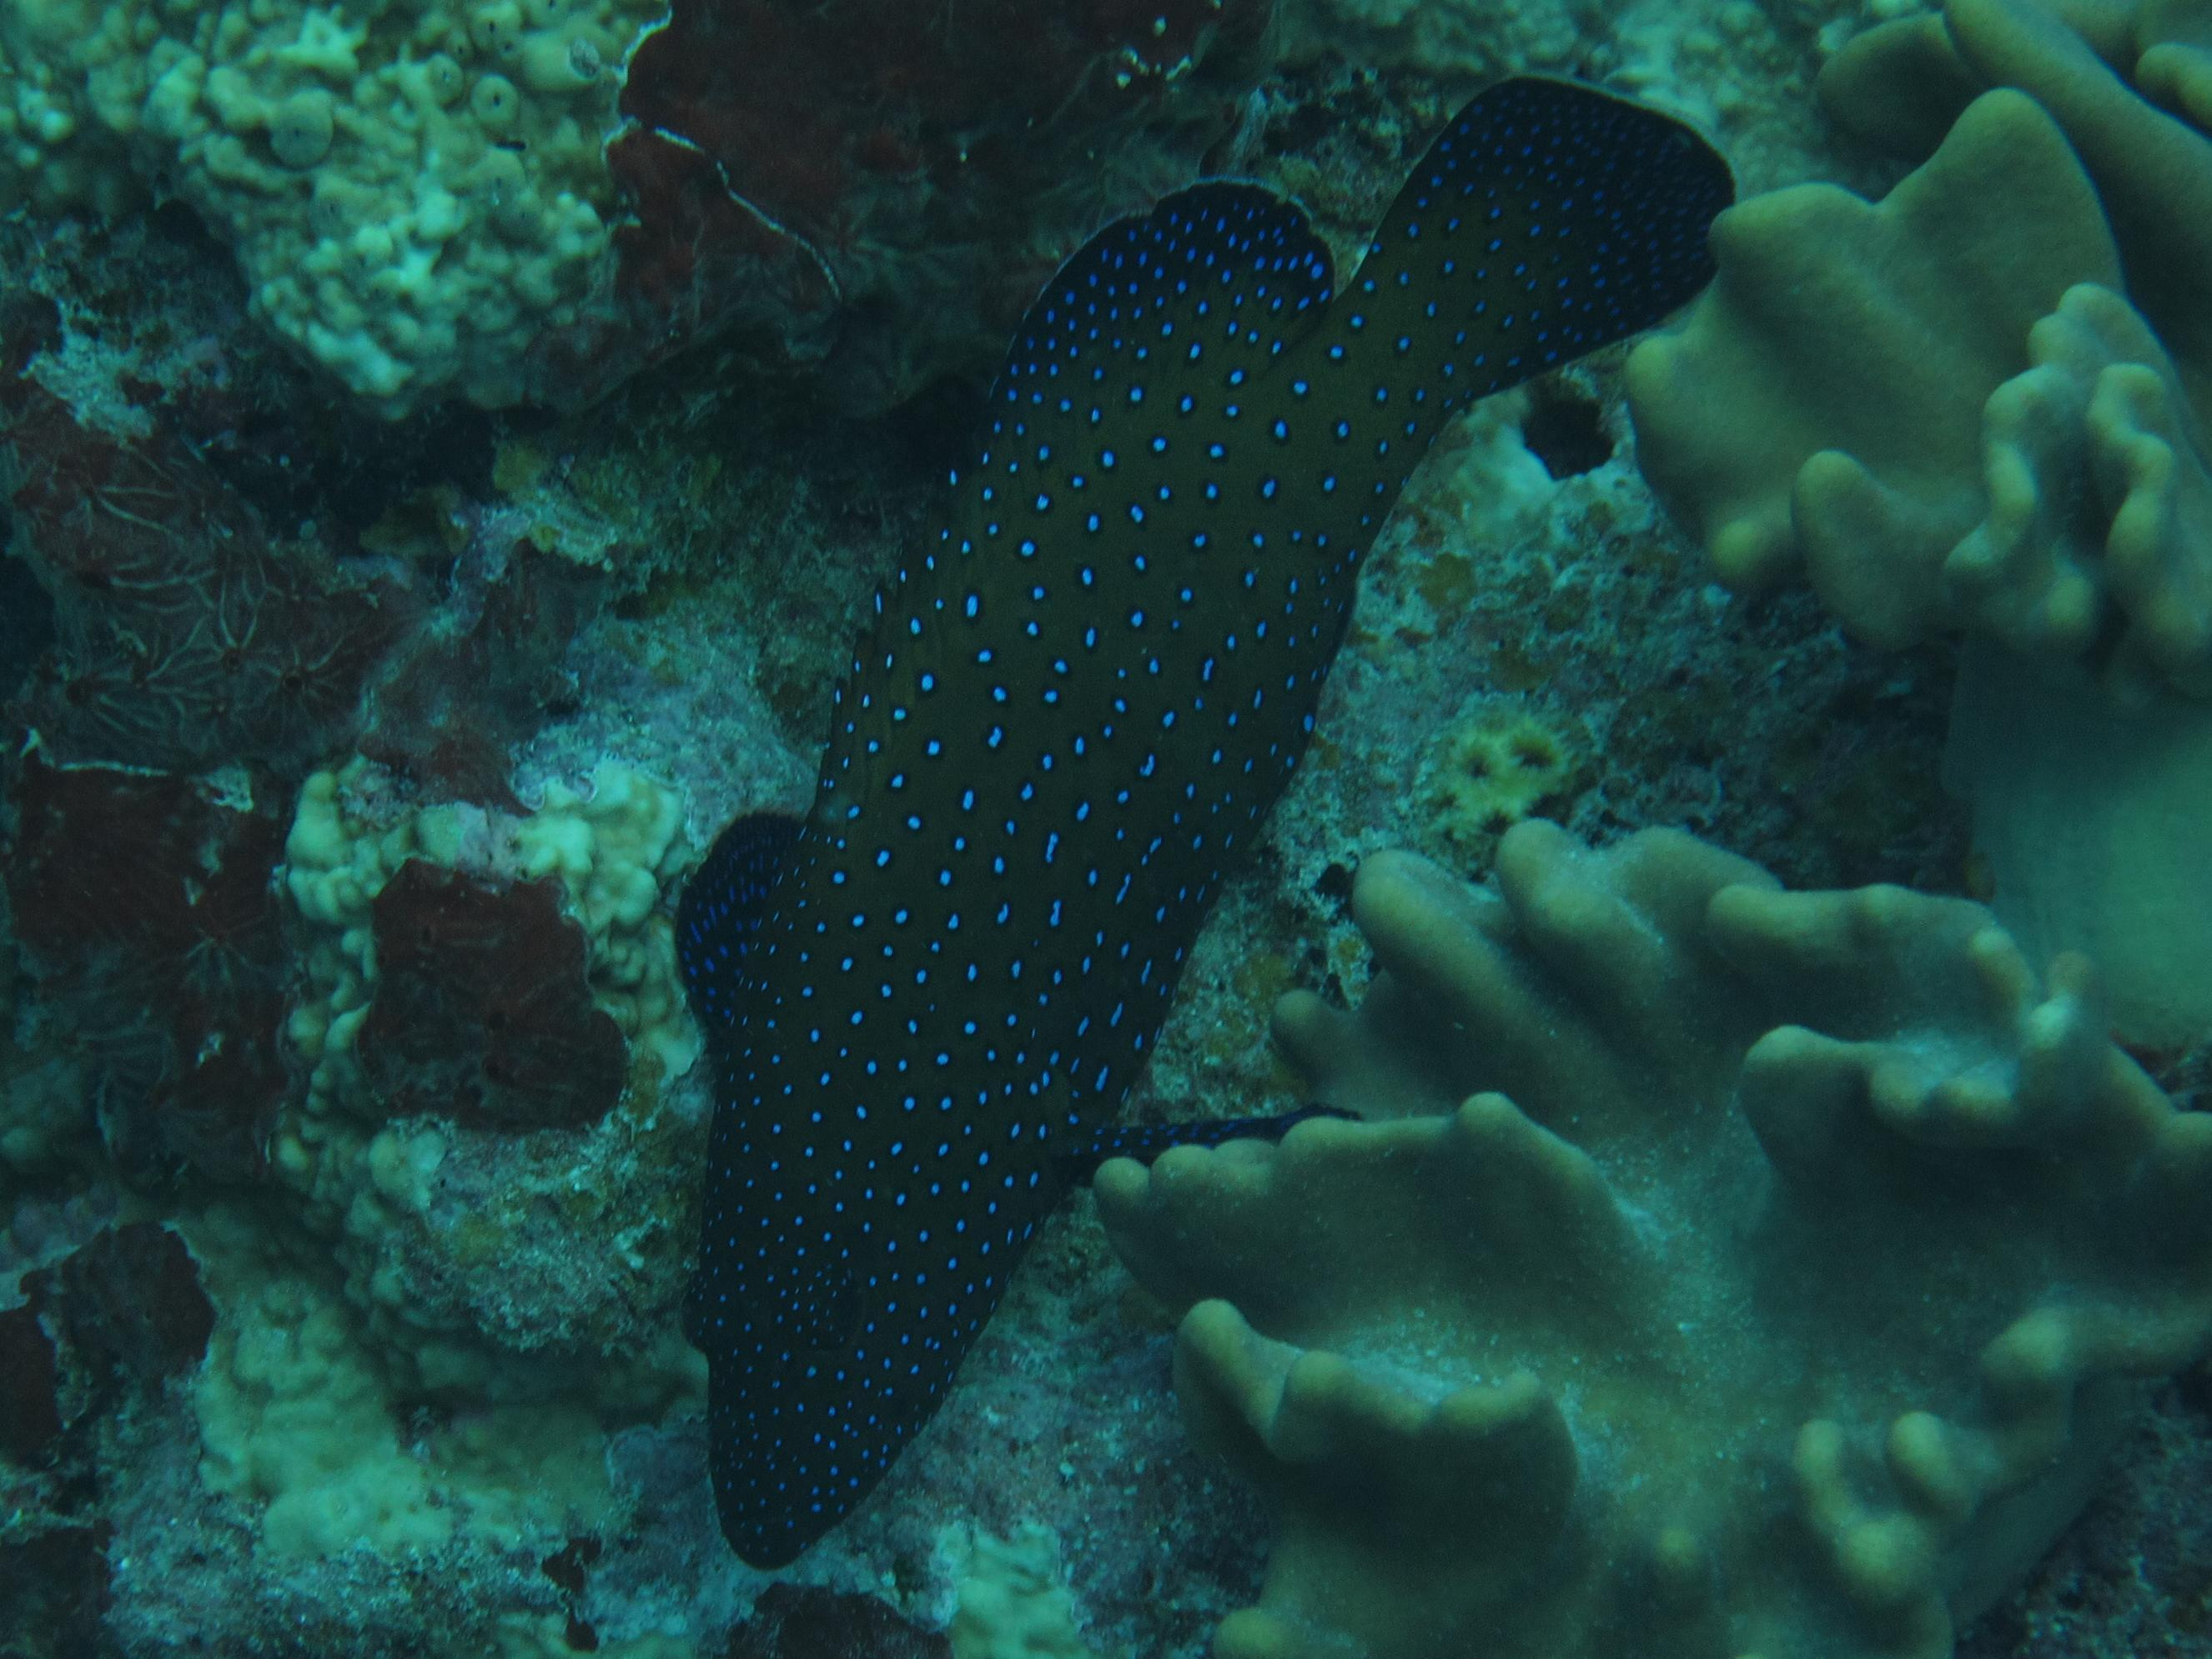Fish: (691, 59, 1740, 1584)
